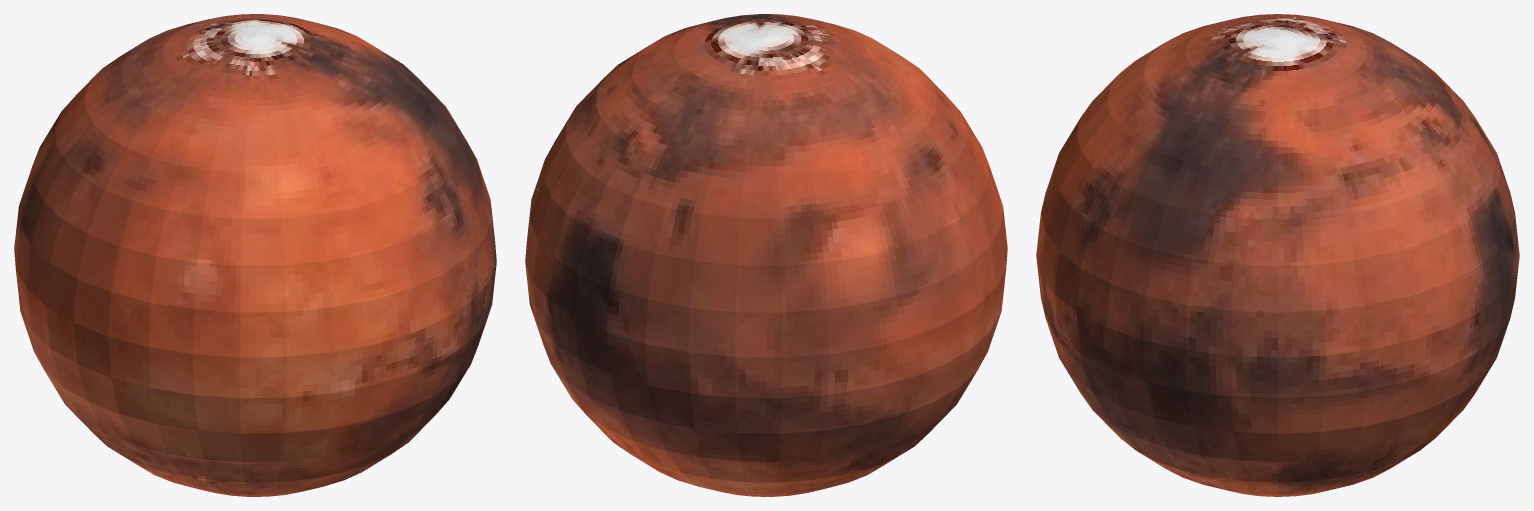
File: mars.glb
3 renders of one model, left to right at view 1: azimuth 30°, elevation 25°; view 2: azimuth 150°, elevation 25°; view 3: azimuth 270°, elevation 25°, orthographic.
Parts seen in each view (by area): view 1: Mars; view 2: Mars; view 3: Mars.
Part boxes in pixels (bbox=[...]): Mars: bbox=[14, 14, 496, 496]; Mars: bbox=[525, 14, 1007, 496]; Mars: bbox=[1036, 14, 1519, 496].
Size of the model in its own units: 13.83 by 13.83 by 13.83.
4 materials, 3 textured.
